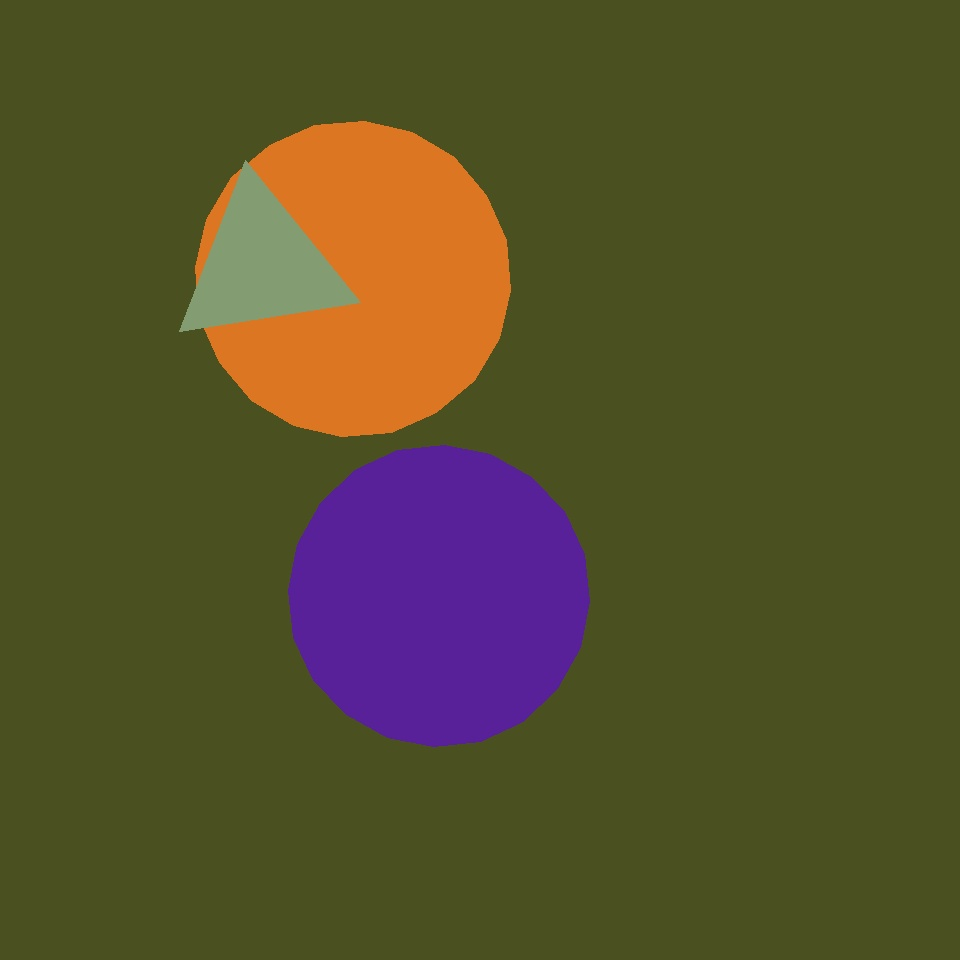circle: (599, 461, 883, 710), (171, 180, 352, 350)
square: (316, 602, 387, 673)
triangle: (196, 122, 510, 436), (288, 446, 590, 746)
